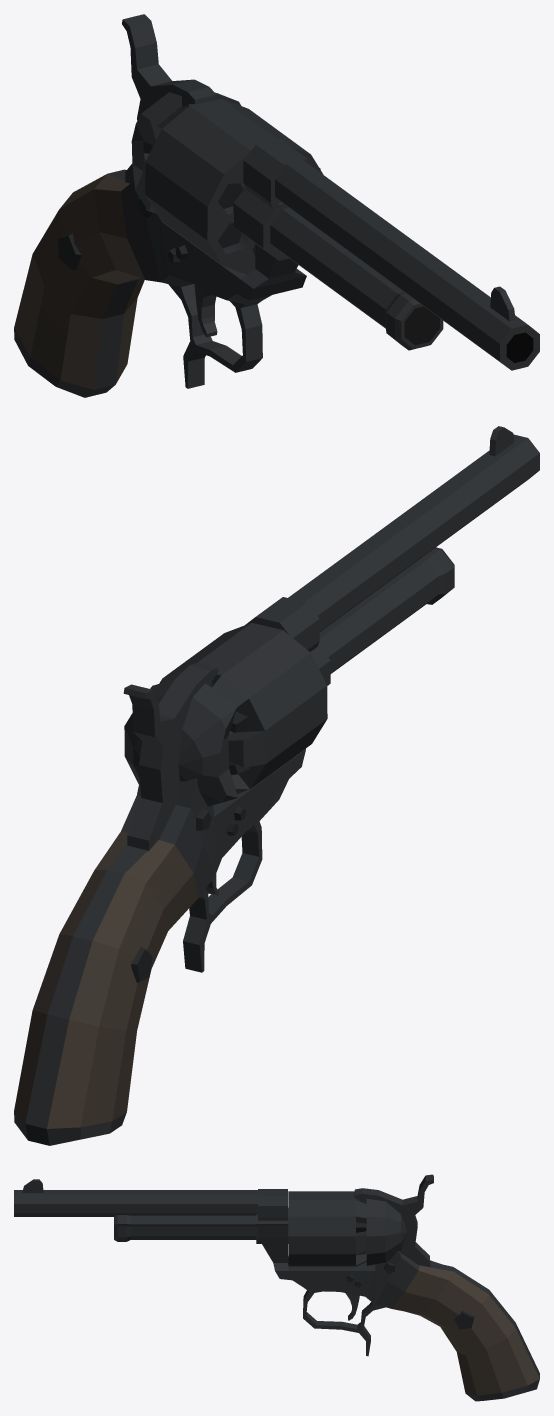
Rendered from SM_Wep_Revolver_01.glb.
3 renders of one model, top to bottom at view 1: azimuth 30°, elevation 25°; view 2: azimuth 150°, elevation 25°; view 3: azimuth 270°, elevation 25°, orthographic. The views are drawn at different scales.
Visible parts, largest first — view 1: SM_Wep_Revolver_01, SM_Wep_Revolver_01_Cylander, SM_Wep_Revolver_01_Hammer, SM_Wep_Revolver_01_Trigger; view 2: SM_Wep_Revolver_01, SM_Wep_Revolver_01_Cylander, SM_Wep_Revolver_01_Hammer; view 3: SM_Wep_Revolver_01, SM_Wep_Revolver_01_Cylander, SM_Wep_Revolver_01_Hammer.
Boxes of the visible parts, x1,y1,x2,y2 form: SM_Wep_Revolver_01: [14, 92, 539, 397]; SM_Wep_Revolver_01_Cylander: [143, 98, 323, 274]; SM_Wep_Revolver_01_Hammer: [122, 14, 216, 229]; SM_Wep_Revolver_01_Trigger: [194, 284, 217, 337]; SM_Wep_Revolver_01: [14, 426, 539, 1145]; SM_Wep_Revolver_01_Cylander: [159, 623, 327, 793]; SM_Wep_Revolver_01_Hammer: [123, 663, 218, 850]; SM_Wep_Revolver_01: [14, 1179, 539, 1401]; SM_Wep_Revolver_01_Cylander: [288, 1191, 366, 1266]; SM_Wep_Revolver_01_Hammer: [354, 1174, 433, 1266].
Size of the model in its own units: 0.0502 by 0.1638 by 0.3534.
1 material, 1 textured.
